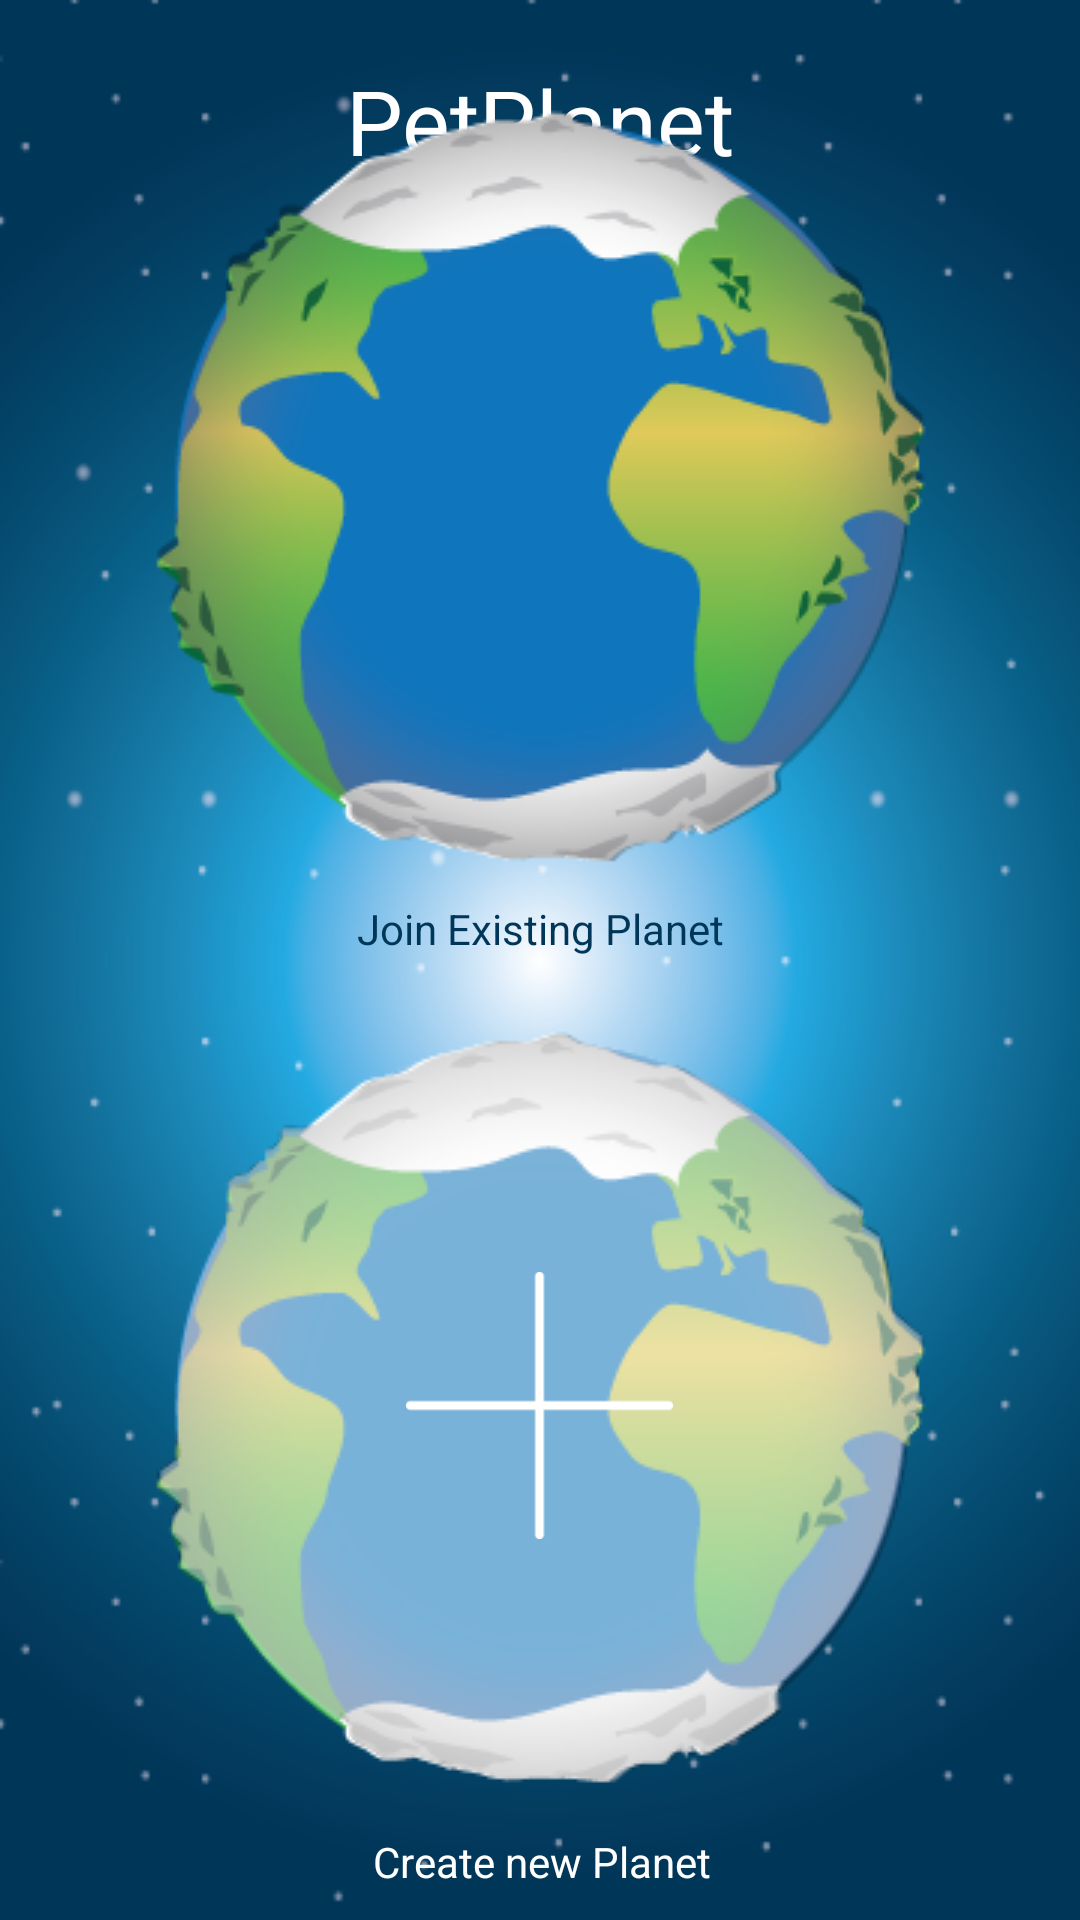

Icon bounding boxes for this 1080*1920 phone screenshot, format (x1, y1, x2, y2):
add: (406, 1260, 673, 1539)
